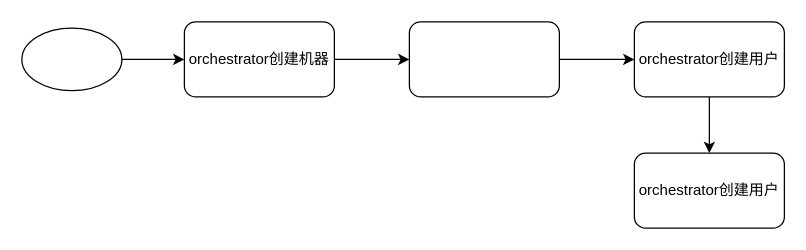
Image size: 806x250. Some labels were removed from this diagram. Here are the shapes that lost their labels. From the top down, the box of each, then its label:
(21, 27, 122, 91): 开始
(408, 21, 559, 97): orchestrator创建robot
